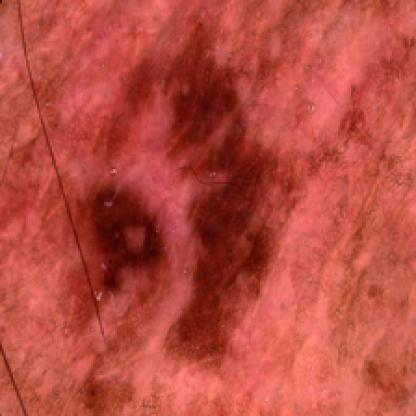malignant: (93, 149, 243, 312)
